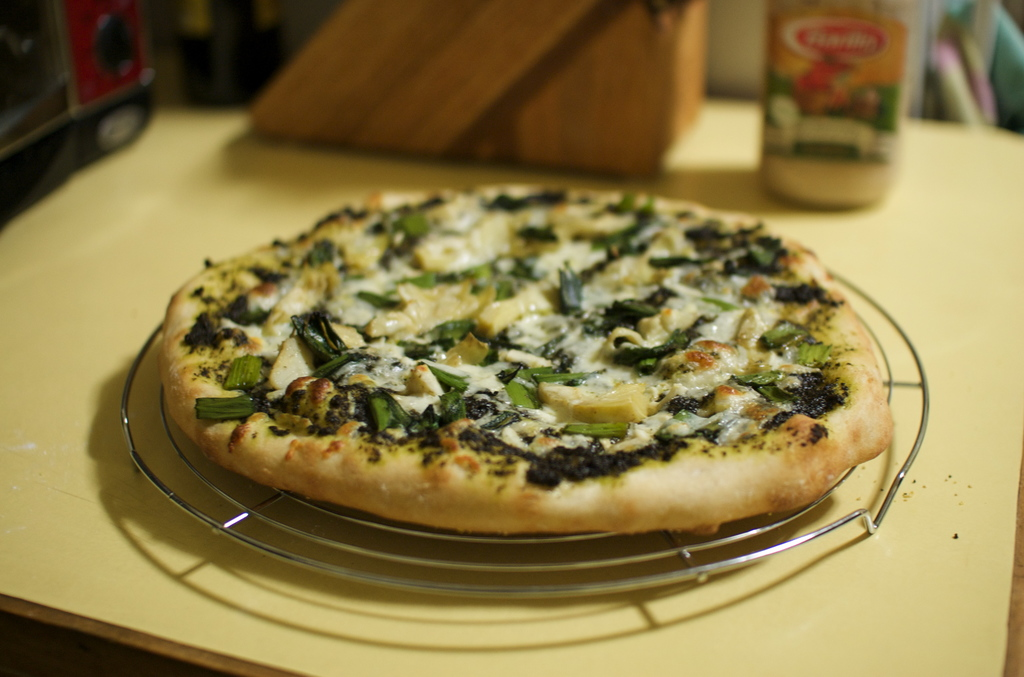Pizza: (152, 181, 922, 541)
